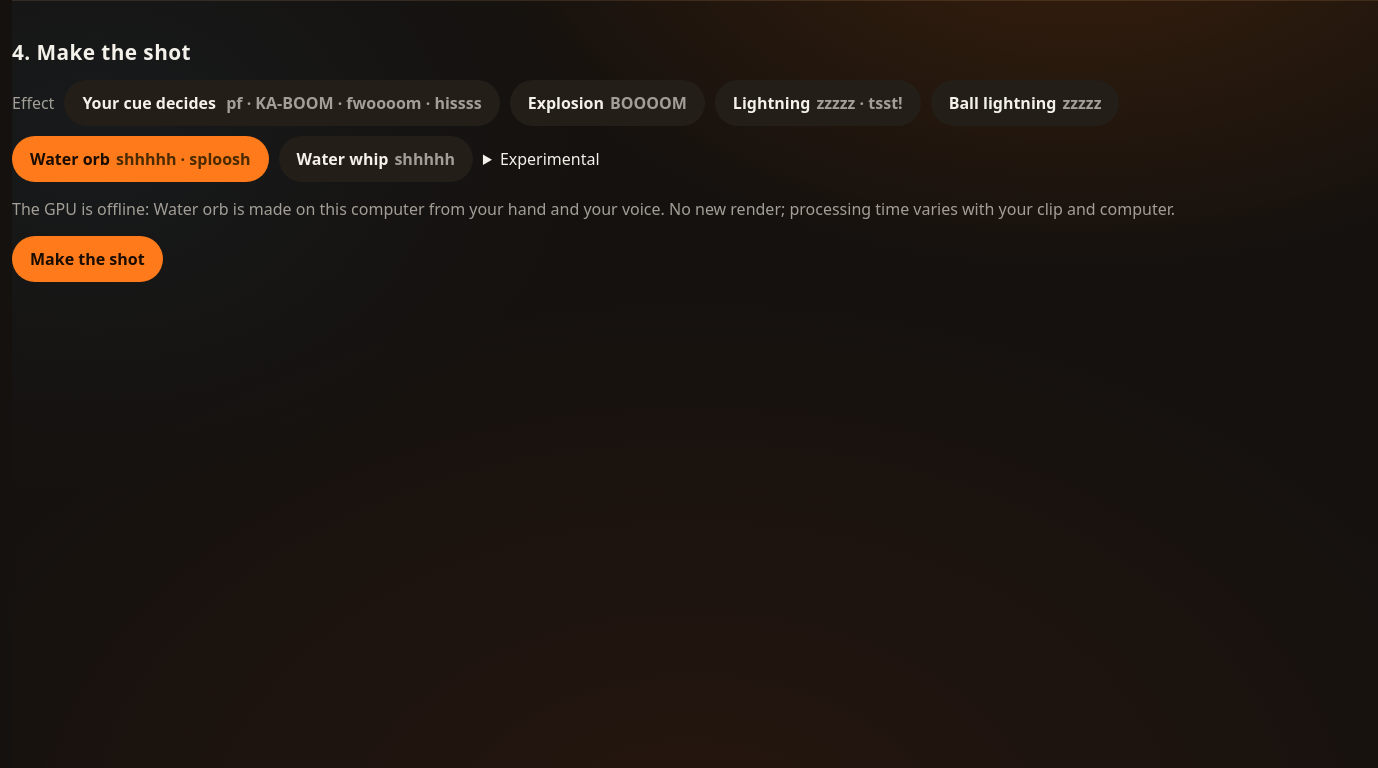
Test: ShotPanel offline sample hand › explains both local effects and the fireball made ahead when the cue decides
Click the radio button labelled "Your cue decides pf · KA-BOOM · fwoooom · hissss" at point(282, 103), box 64,80 -> 500,126
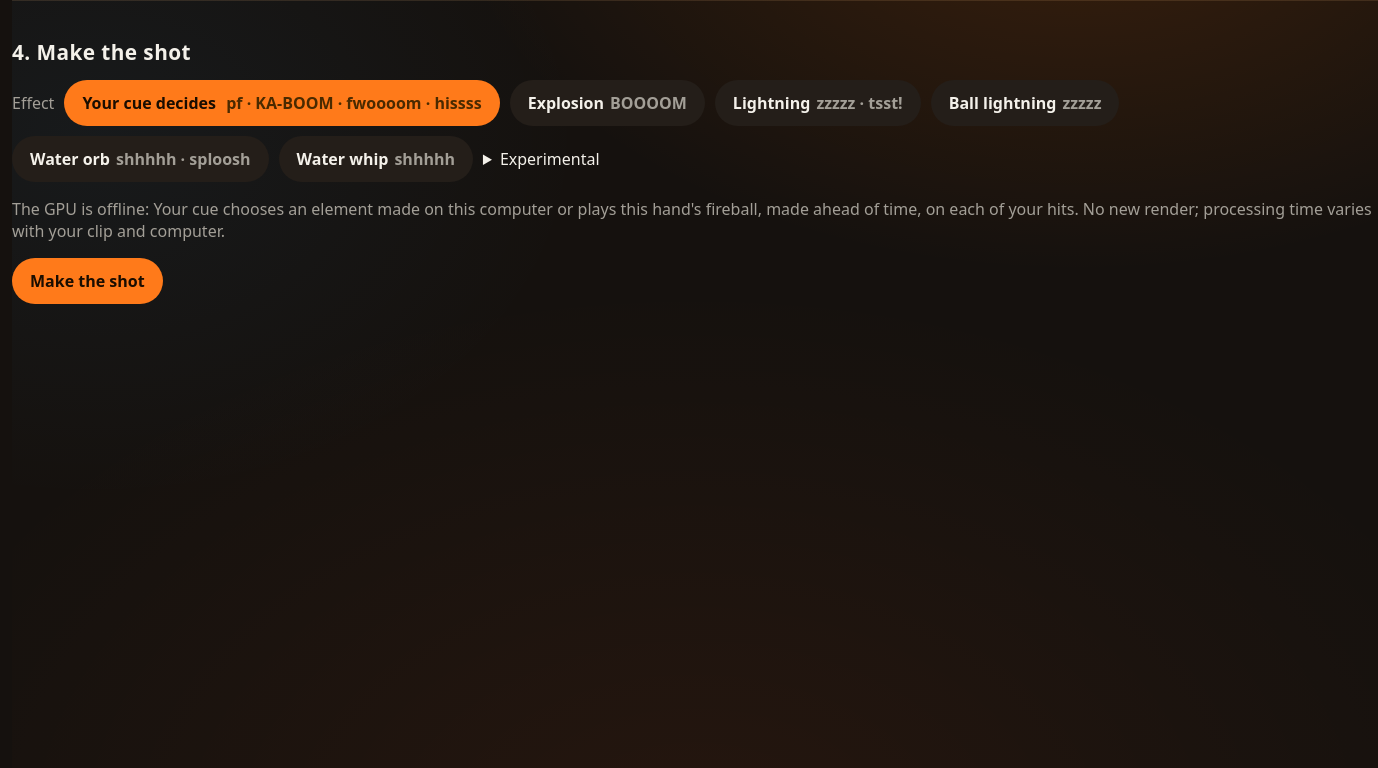
Check: the text "made on this computer" is shown, box 153,198 -> 1079,220
Check: the text "Your cue chooses" is shown, box 153,198 -> 1079,220
Check: the text "fireball, made ahead of time" is shown, box 153,198 -> 1079,220
